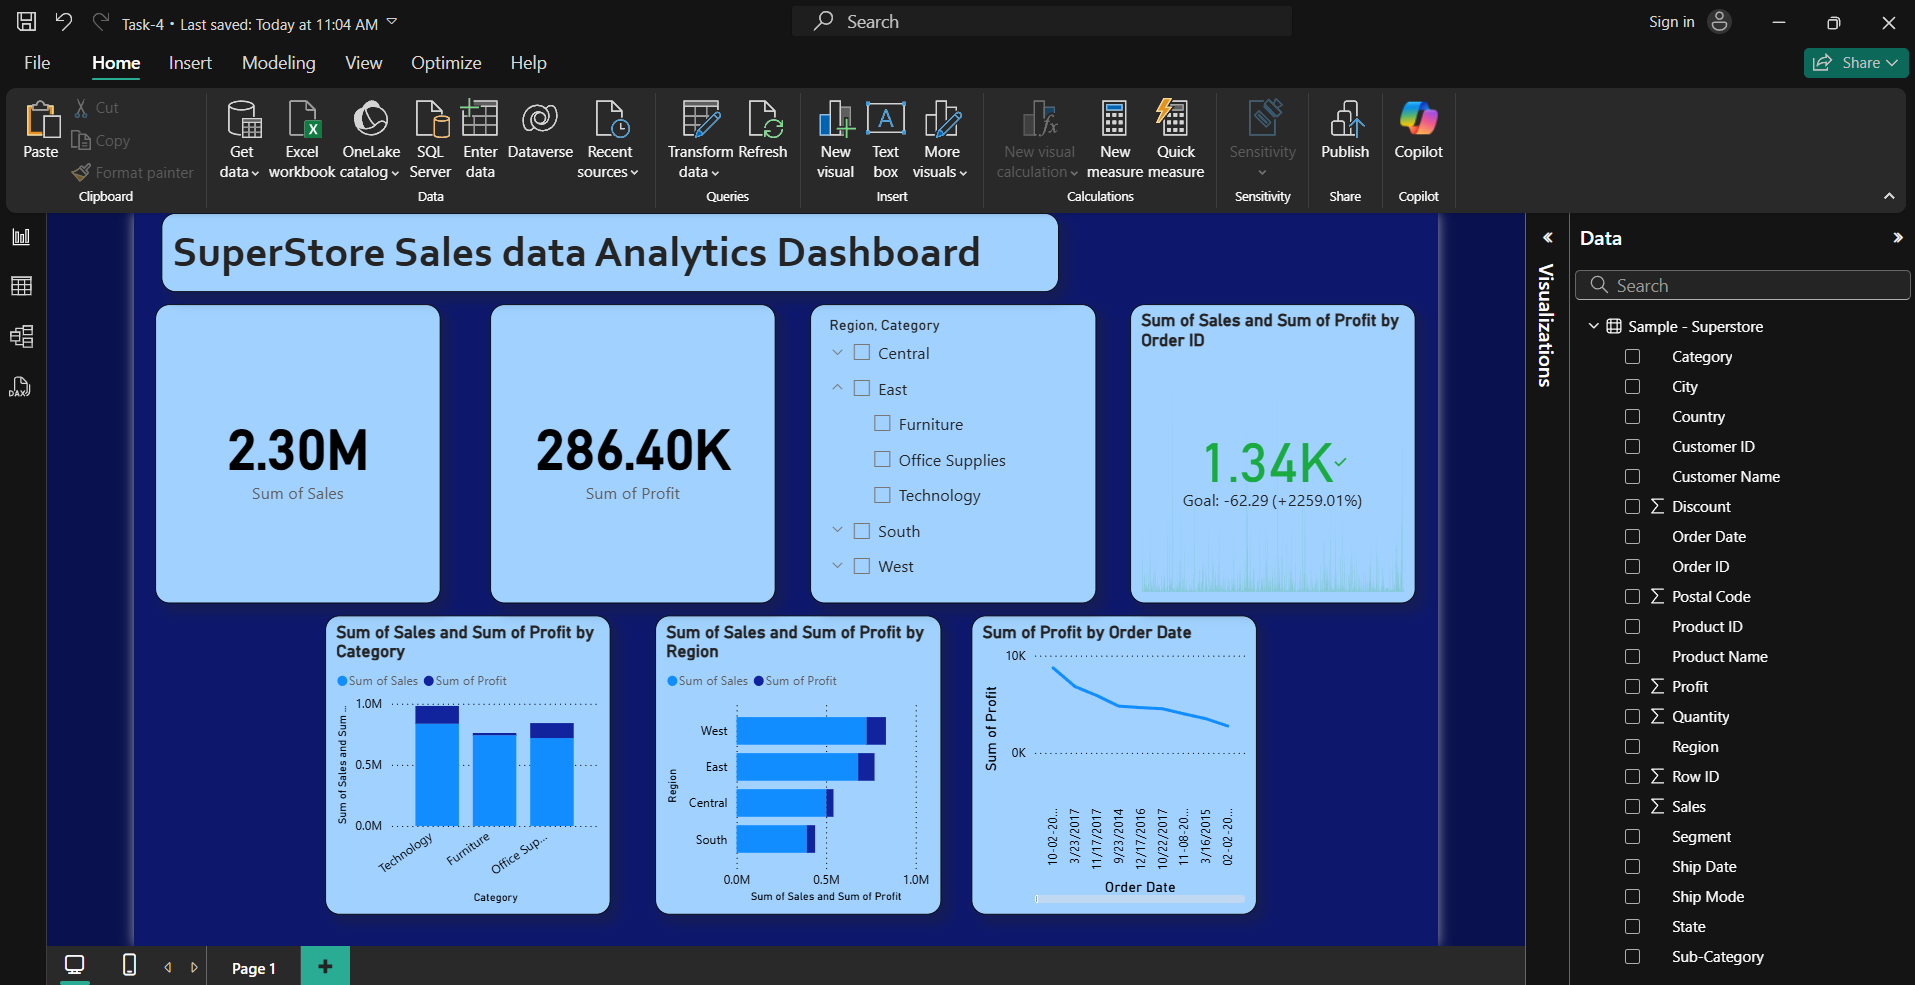

The dashboard page shown, as its layout file describes it:
{"tool":"powerbi","page":{"name":"Page 1","canvas":[1280,720],"ordinal":0},"visuals":[{"type":"lineChart","fields":{"Category":["Sample - Superstore.Order Date"],"Y":["Sum(Sample - Superstore.Profit)","select"]},"box":[822.1,395.1,279.8,293.3],"z":0},{"type":"columnChart","fields":{"Category":["Sample - Superstore.Category"],"Y":["Sum(Sample - Superstore.Sales)","Sum(Sample - Superstore.Profit)"]},"box":[187.7,395.1,279.8,293.3],"z":1000},{"type":"barChart","fields":{"Category":["Sample - Superstore.Region"],"Y":["Sum(Sample - Superstore.Sales)","Sum(Sample - Superstore.Profit)"]},"box":[511.7,395.1,281,293.3],"z":2000},{"type":"slicer","fields":{"Values":["Sample - Superstore.Region","Sample - Superstore.Category"]},"box":[663.8,89.6,281,293.3],"z":3000},{"type":"kpi","fields":{"Indicator":["Sum(Sample - Superstore.Sales)"],"TrendLine":["Sample - Superstore.Order ID"],"Goal":["Sum(Sample - Superstore.Profit)"]},"box":[977.9,89.6,279.8,293.3],"z":4000},{"type":"card","fields":{"Values":["Sum(Sample - Superstore.Sales)"]},"box":[20.9,89.6,279.8,293.3],"z":5000},{"type":"card","fields":{"Values":["Sum(Sample - Superstore.Profit)"]},"box":[349.7,89.6,279.8,293.3],"z":6000},{"type":"textbox","box":[27,0,881,77.3],"z":6001}]}

Visuals, with their boxes on the page's 1280x720 design canvas (x1, y1, x2, y2). These are canvas units, not pixel positions in the 1915x985 screenshot, which may show the page scaled, cropped or inside an application window:
lineChart - Sample - Superstore.Order Date x Sum(Sample - Superstore.Profit): x1=822 y1=395 x2=1102 y2=688
columnChart - Sample - Superstore.Category x Sum(Sample - Superstore.Sales): x1=188 y1=395 x2=468 y2=688
barChart - Sample - Superstore.Region x Sum(Sample - Superstore.Sales): x1=512 y1=395 x2=793 y2=688
slicer - Sample - Superstore.Region x Sample - Superstore.Category: x1=664 y1=90 x2=945 y2=383
kpi - Sum(Sample - Superstore.Sales) x Sample - Superstore.Order ID: x1=978 y1=90 x2=1258 y2=383
card - Sum(Sample - Superstore.Sales): x1=21 y1=90 x2=301 y2=383
card - Sum(Sample - Superstore.Profit): x1=350 y1=90 x2=630 y2=383
textbox: x1=27 y1=0 x2=908 y2=77
